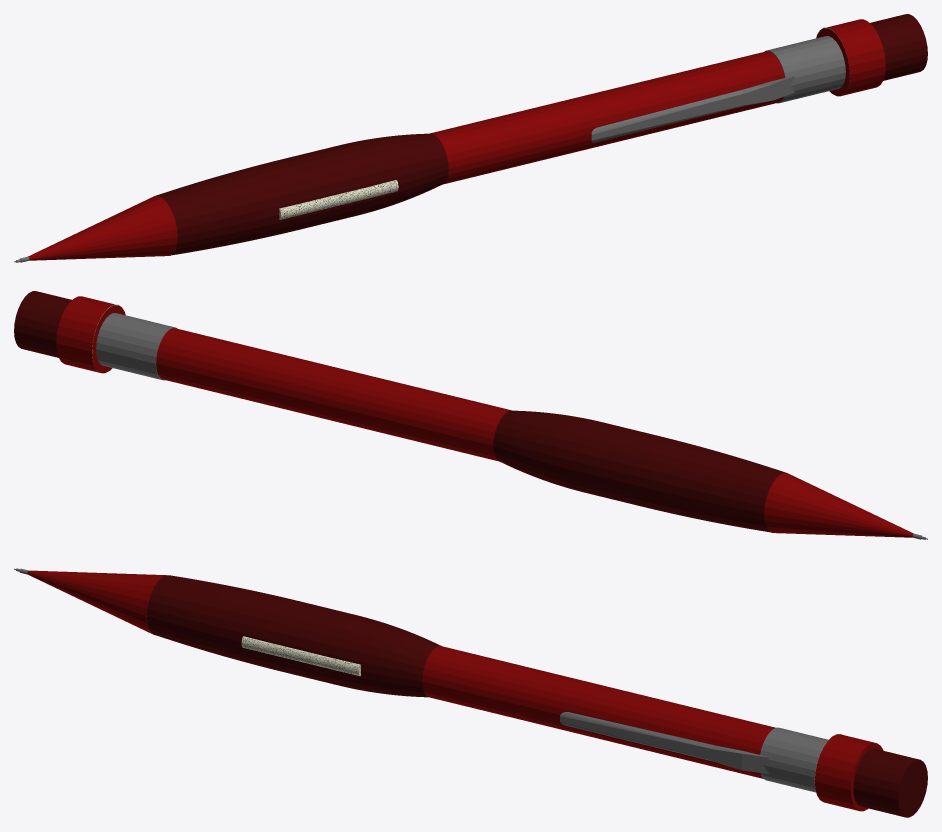
3 renders of one model, top to bottom at view 1: azimuth 30°, elevation 25°; view 2: azimuth 150°, elevation 25°; view 3: azimuth 330°, elevation 25°, orthographic.
Visible parts, largest first — view 1: pentel quickerclicker mechanical pencil transparent; view 2: pentel quickerclicker mechanical pencil transparent; view 3: pentel quickerclicker mechanical pencil transparent.
Boxes of the visible parts, box(x1,y1,x2,y2) form: pentel quickerclicker mechanical pencil transparent: box(14, 14, 927, 262); pentel quickerclicker mechanical pencil transparent: box(14, 291, 927, 539); pentel quickerclicker mechanical pencil transparent: box(14, 568, 927, 817).
Size of the model in its own units: 492 by 34.42 by 36.04.
